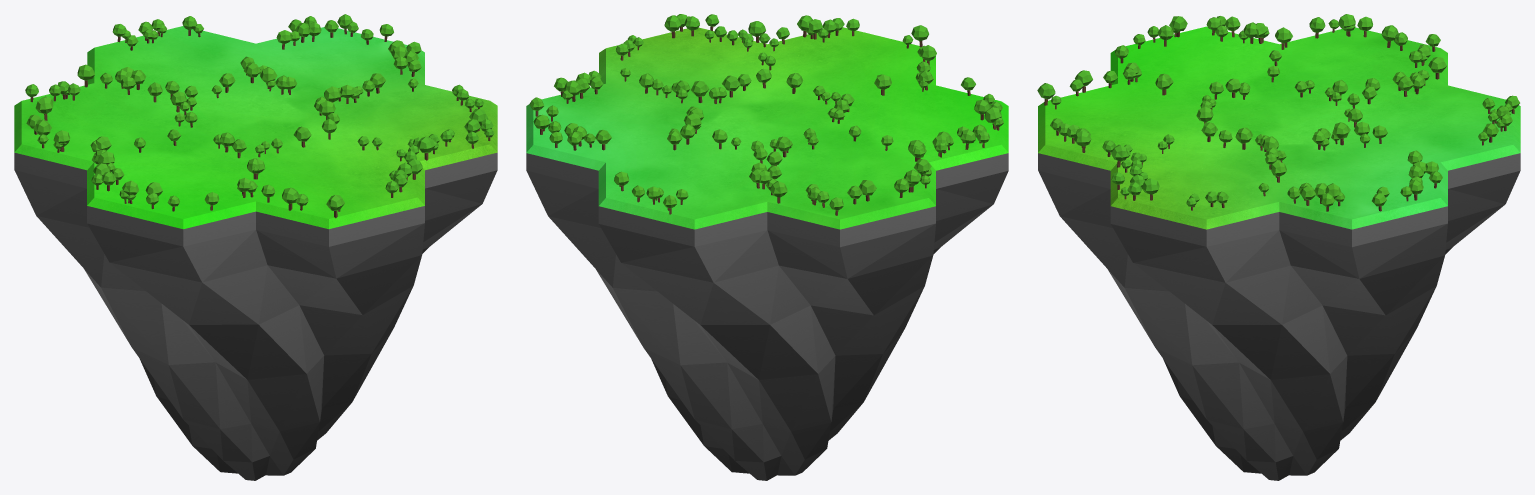
The model's file is Island_v001.fbx.
3 views of the same model, side by side, from view 1: azimuth 30°, elevation 25°; view 2: azimuth 150°, elevation 25°; view 3: azimuth 270°, elevation 25° (orthographic).
Visible parts, largest first — view 1: geo_Island, geo_Trees, geo_IslandPiece_6, geo_IslandPiece_4, geo_IslandPiece_7, geo_IslandPiece_5, geo_IslandPiece_1, geo_IslandPiece_2, geo_IslandPiece_3; view 2: geo_Island, geo_Trees, geo_IslandPiece_3, geo_IslandPiece_6, geo_IslandPiece_1, geo_IslandPiece_2, geo_IslandPiece_5, geo_IslandPiece_4, geo_IslandPiece_7; view 3: geo_Island, geo_Trees, geo_IslandPiece_3, geo_IslandPiece_6, geo_IslandPiece_7, geo_IslandPiece_5, geo_IslandPiece_1, geo_IslandPiece_4, geo_IslandPiece_2.
Boxes of the visible parts, x1=… form: geo_Island: x1=14, y1=26, x2=497, y2=480; geo_Trees: x1=25, y1=14, x2=494, y2=218; geo_IslandPiece_6: x1=265, y1=144, x2=392, y2=206; geo_IslandPiece_4: x1=46, y1=91, x2=173, y2=152; geo_IslandPiece_7: x1=338, y1=91, x2=465, y2=152; geo_IslandPiece_5: x1=119, y1=144, x2=246, y2=206; geo_IslandPiece_1: x1=192, y1=91, x2=319, y2=153; geo_IslandPiece_2: x1=265, y1=38, x2=392, y2=97; geo_IslandPiece_3: x1=119, y1=38, x2=246, y2=98; geo_Island: x1=526, y1=27, x2=1008, y2=480; geo_Trees: x1=529, y1=14, x2=1003, y2=215; geo_IslandPiece_3: x1=631, y1=145, x2=758, y2=206; geo_IslandPiece_6: x1=776, y1=39, x2=903, y2=100; geo_IslandPiece_1: x1=704, y1=92, x2=830, y2=153; geo_IslandPiece_2: x1=558, y1=92, x2=685, y2=153; geo_IslandPiece_5: x1=849, y1=92, x2=976, y2=153; geo_IslandPiece_4: x1=776, y1=145, x2=903, y2=206; geo_IslandPiece_7: x1=631, y1=39, x2=758, y2=100; geo_Island: x1=1038, y1=26, x2=1520, y2=480; geo_Trees: x1=1037, y1=14, x2=1519, y2=211; geo_IslandPiece_3: x1=1361, y1=92, x2=1488, y2=153; geo_IslandPiece_6: x1=1070, y1=92, x2=1197, y2=153; geo_IslandPiece_7: x1=1143, y1=145, x2=1270, y2=207; geo_IslandPiece_5: x1=1143, y1=38, x2=1270, y2=99; geo_IslandPiece_1: x1=1215, y1=92, x2=1342, y2=152; geo_IslandPiece_4: x1=1288, y1=39, x2=1415, y2=99; geo_IslandPiece_2: x1=1288, y1=145, x2=1412, y2=206.
Bounding box in the file's own units: 181 × 158 × 184.
